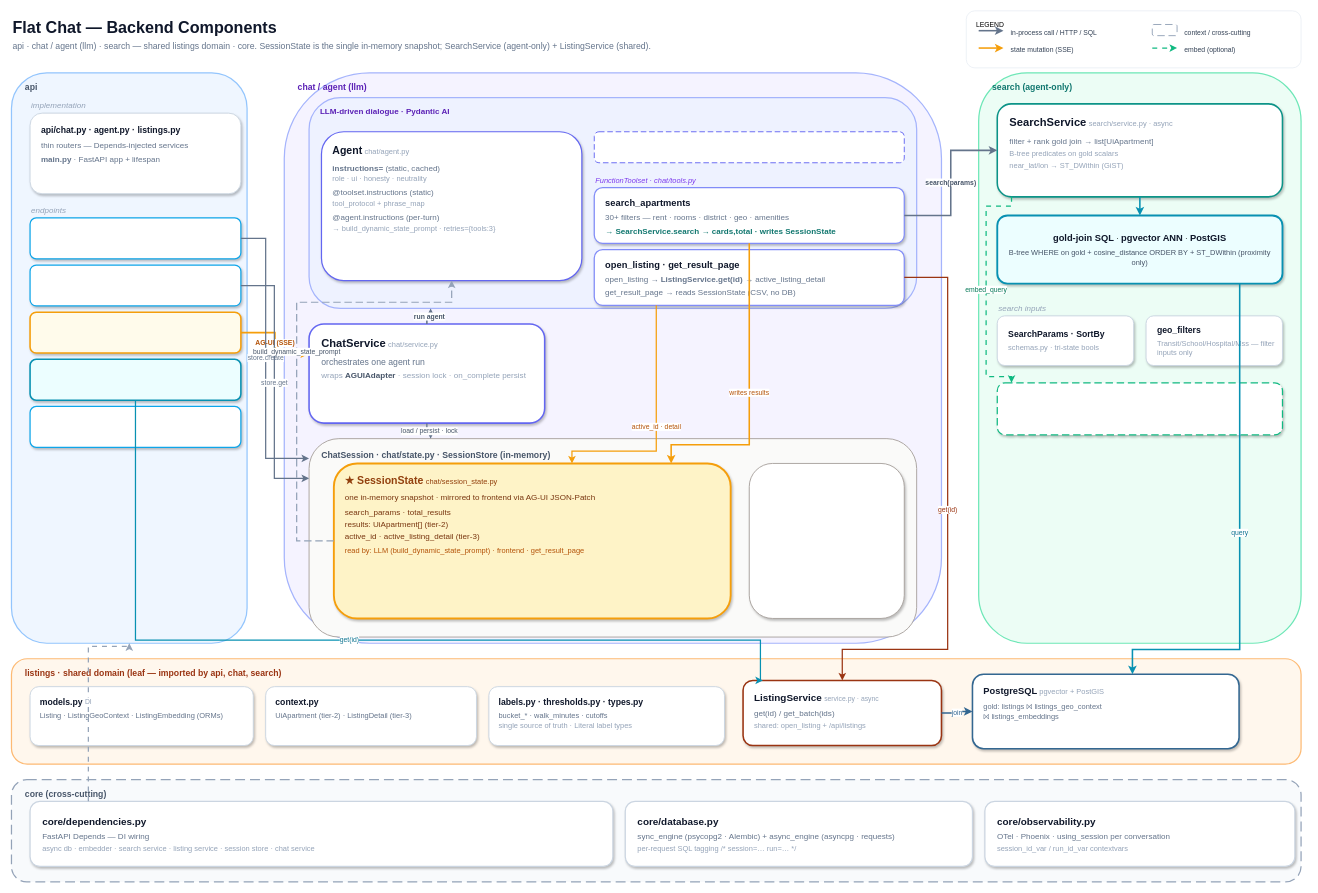
This 1318x893 diagram has some shape labels left out. The centre of each missing label's shape, as x and y in pixels:
Embedder core/embedder.py query embedding (optional): the point at 1140,409
GET /api/agent/info · /threads CopilotKit runtime probes: the point at 136,427
GET /api/conversations/{id}/messages history reload: the point at 136,286
GET /api/listings/{id} NEW tier-3 detail · Cache-Control 5min: the point at 136,380
LLM abstracted · provider seam · prompt caching: the point at 749,147
message_history list[ModelMessage] Pydantic AI conversation log: the point at 827,541
POST /api/agent SSE chat · AG-UI streaming: the point at 136,333
POST /api/conversations create session: the point at 136,239
